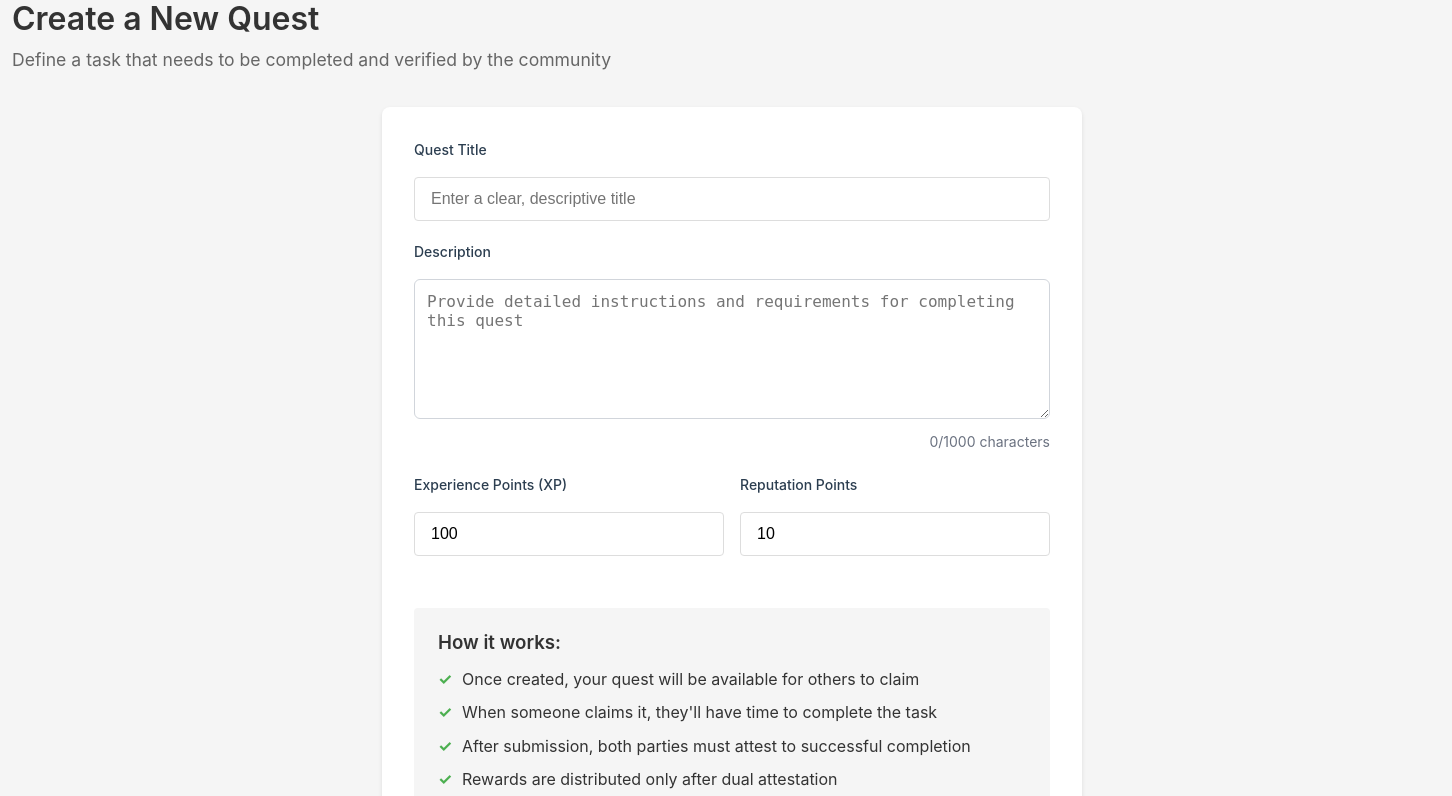
Test: CreateQuest › validates minimum reward points
Type "Test Quest" into the field labelled "Quest Title" at (732, 199), box [414, 177, 1050, 221]
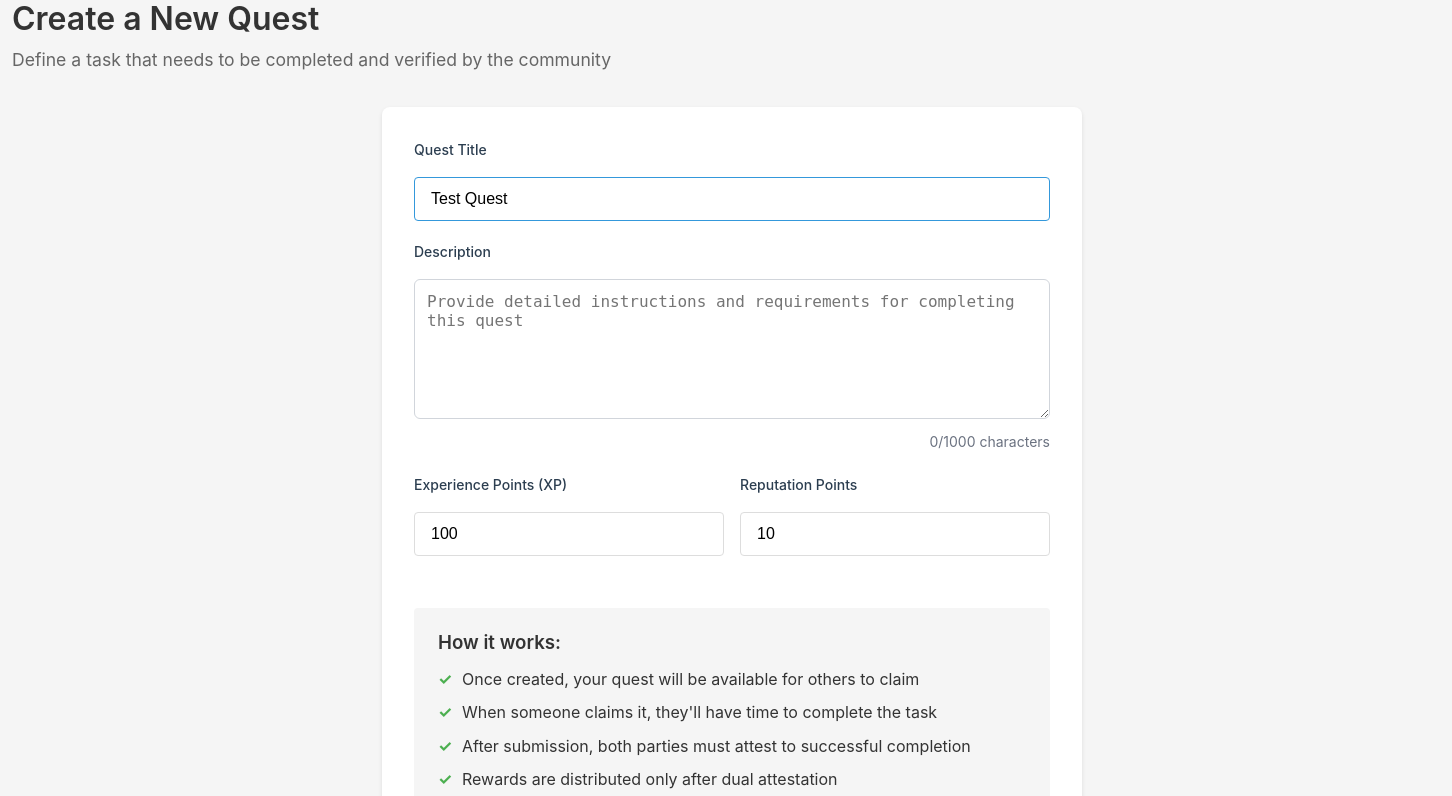
Type "Test Description" into the text box labelled "Description" at (732, 349), box [414, 279, 1050, 419]
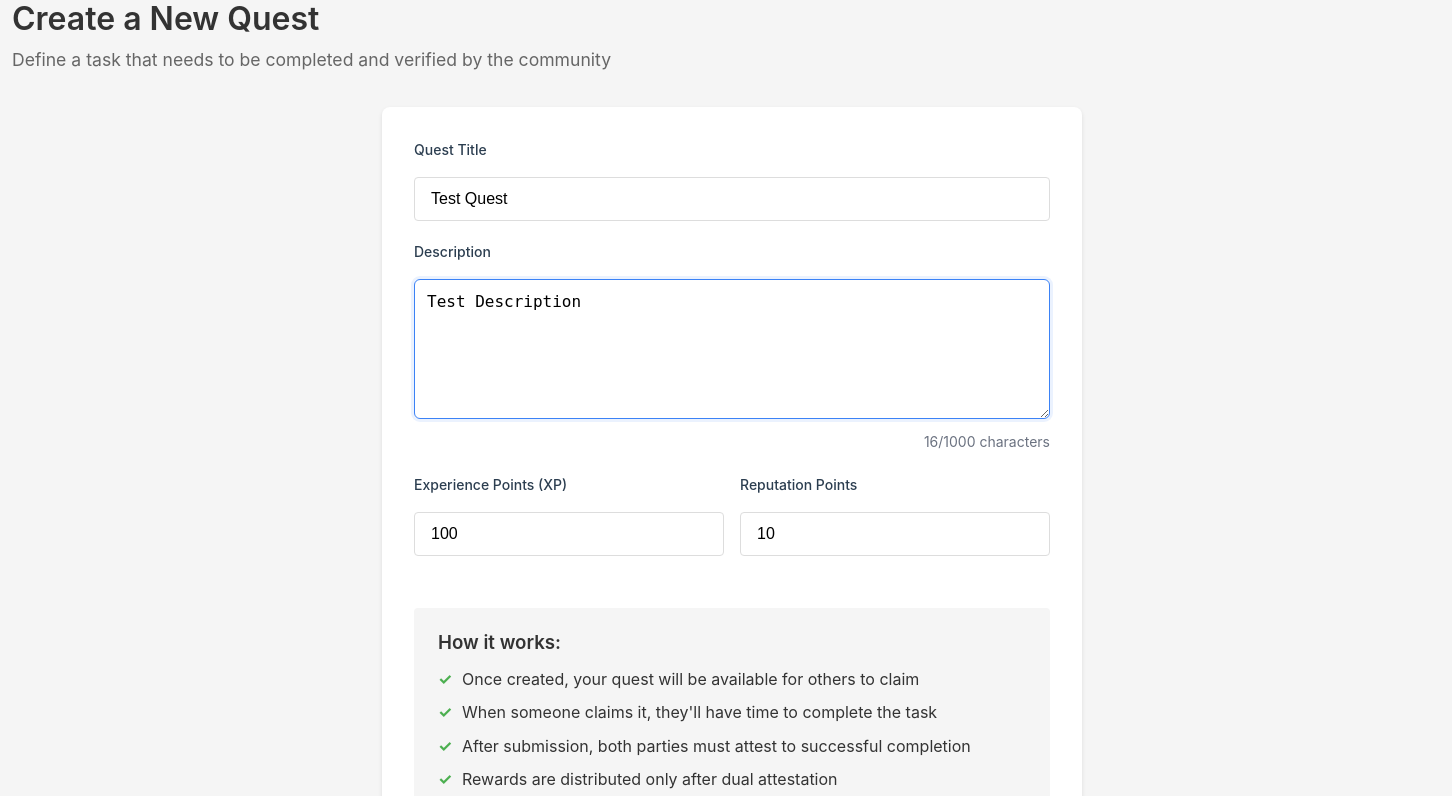
Replace the text in the number field labelled "Experience Points (XP)" with "5" at (569, 534), box [414, 512, 724, 556]
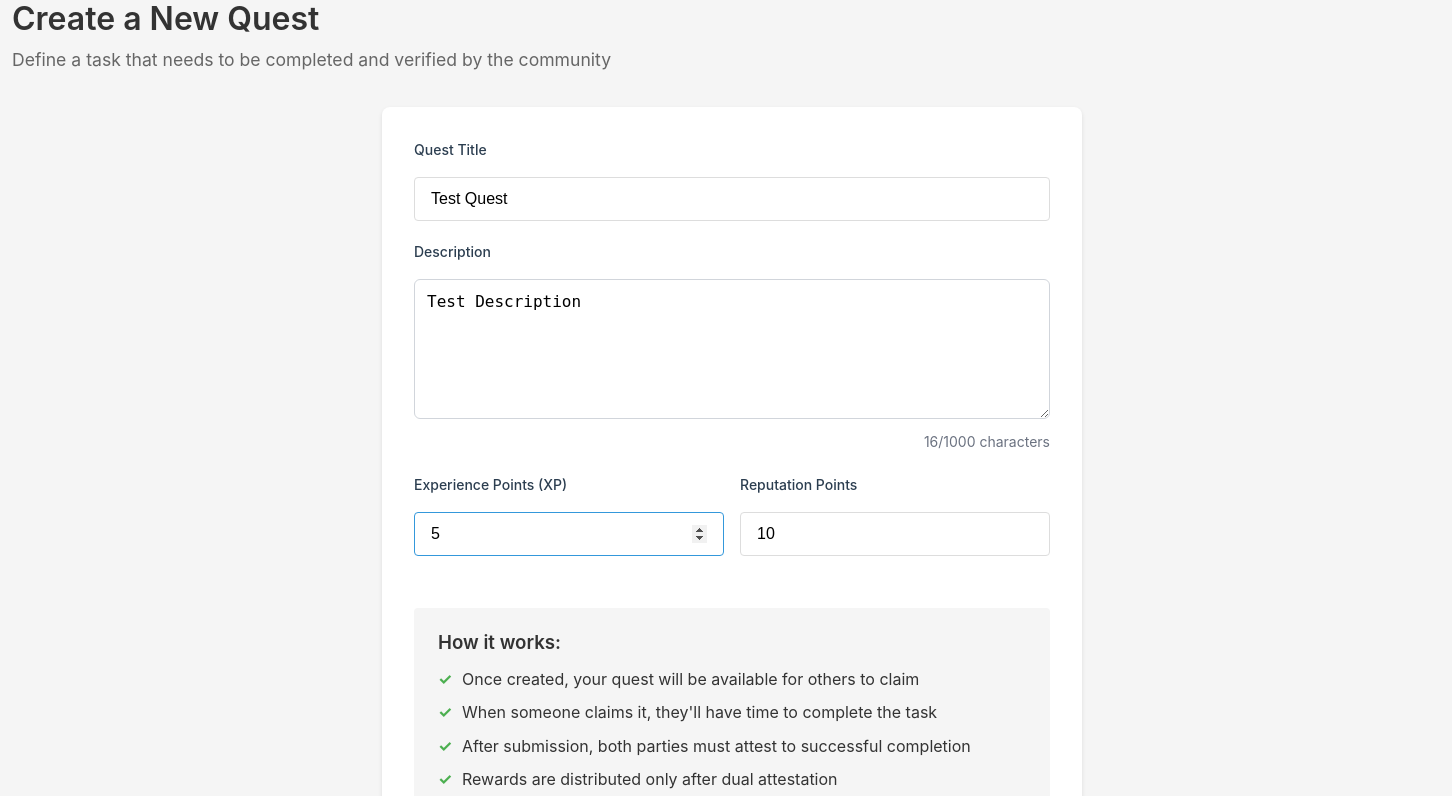
Replace the text in the number field labelled "Reputation Points" with "0" at (895, 534), box [740, 512, 1050, 556]
(page scrolled)
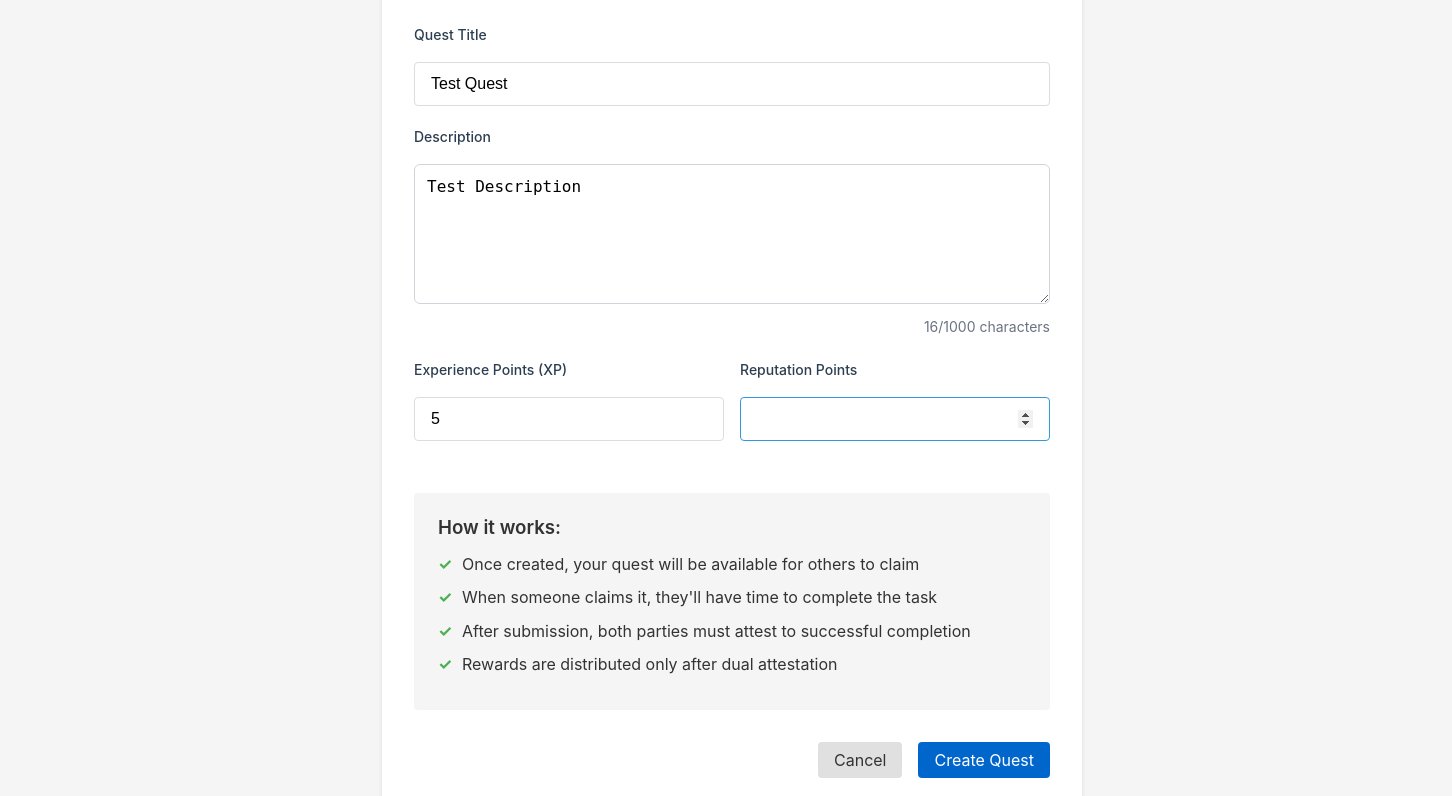
Click the button "Create Quest" at (984, 760), box [918, 742, 1050, 778]
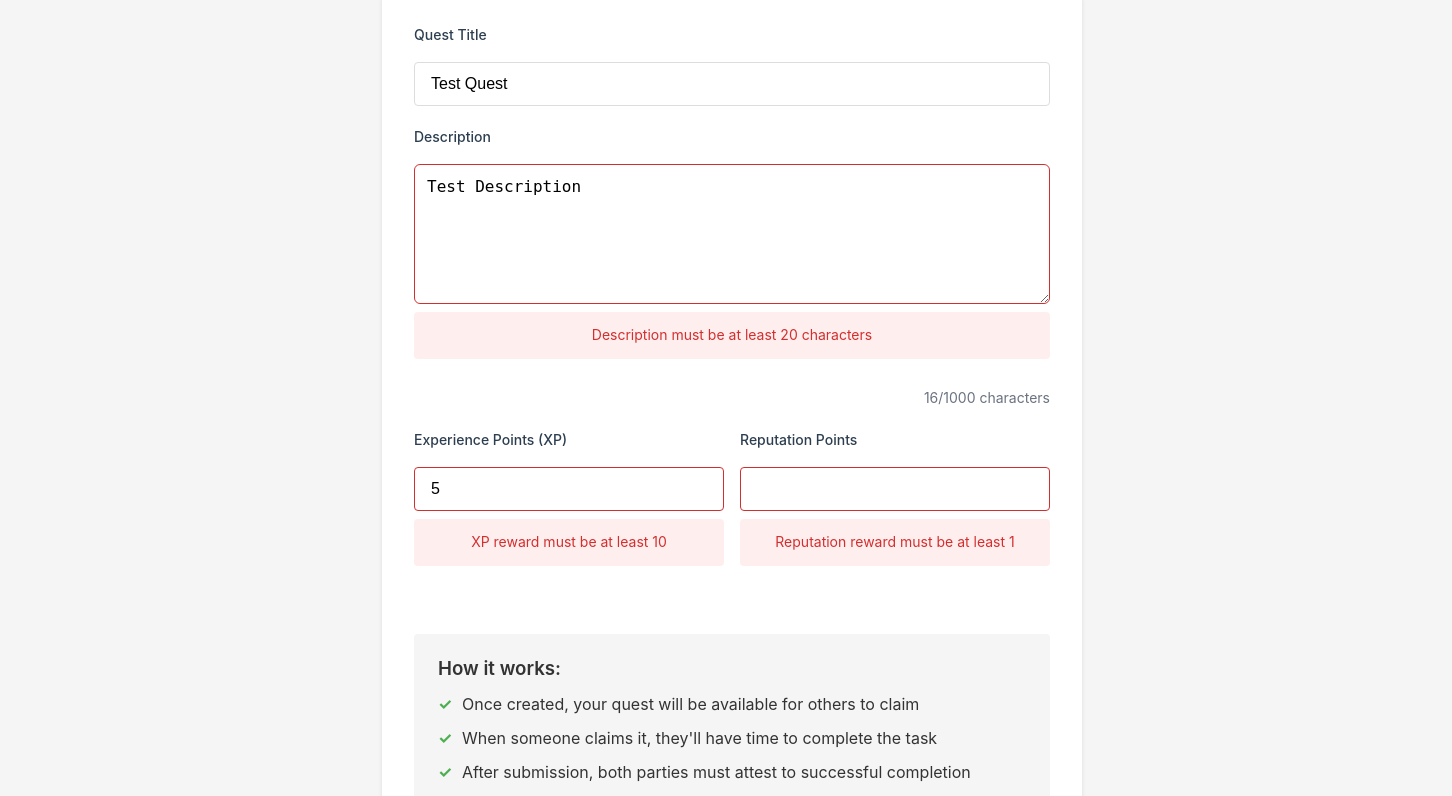
expect the text "XP reward must be at least 10" is shown: met, box [414, 520, 724, 566]
expect the text "Reputation reward must be at least 1" is shown: met, box [740, 520, 1050, 566]
